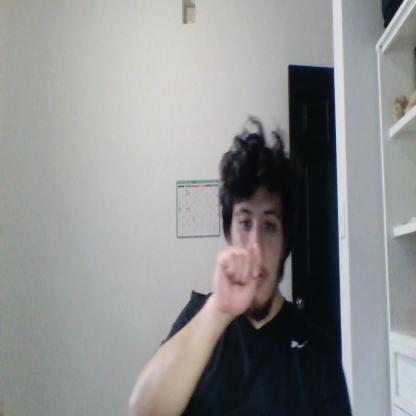T: (214, 243, 262, 314)
